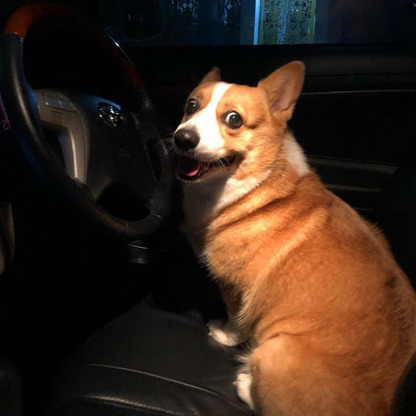Corgi: (157, 56, 402, 393)
